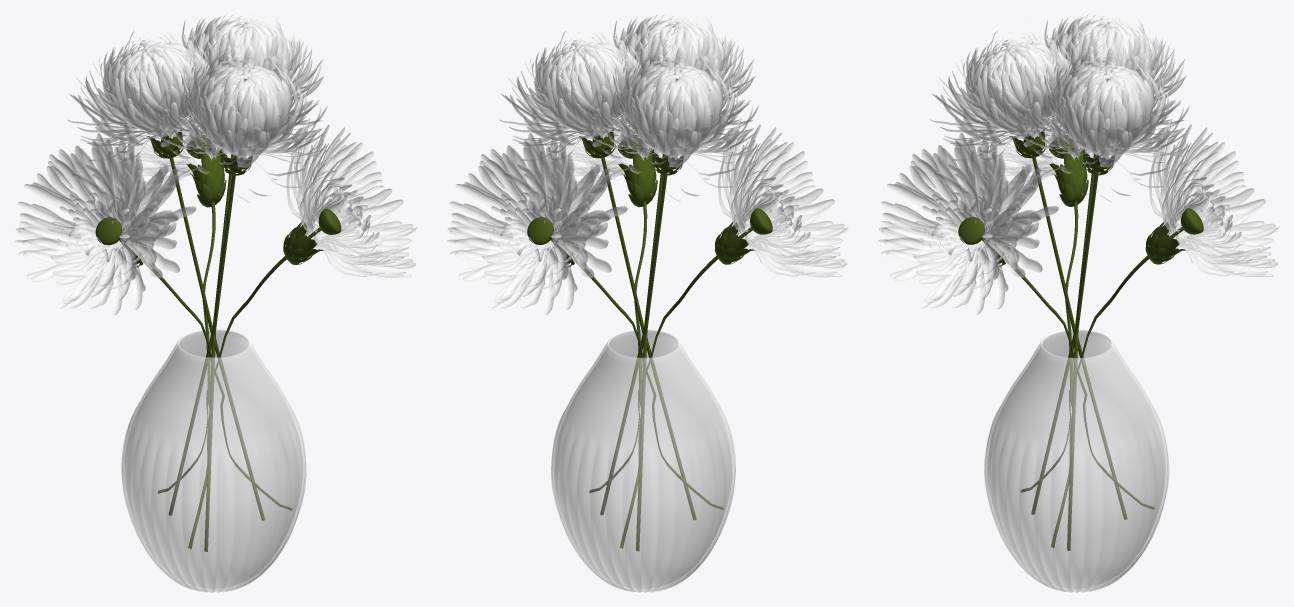
File: bouquet_1735063498882.glb
The picture shows the model from 3 angles, left to right: view 1: azimuth 30°, elevation 25°; view 2: azimuth 150°, elevation 25°; view 3: azimuth 270°, elevation 25°; orthographic projection.
Size of the model in its own units: 1.78 by 2.76 by 1.84.
